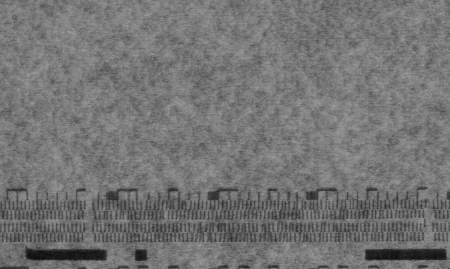Oblique printing: (91, 195, 428, 247)
